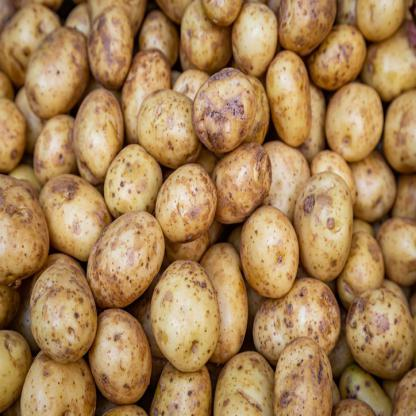potato: (252, 282, 344, 367), (152, 260, 221, 369), (88, 216, 160, 311), (32, 264, 97, 364), (346, 286, 415, 379), (37, 175, 109, 261), (295, 174, 353, 280), (238, 200, 298, 301), (0, 170, 50, 280), (90, 308, 147, 404), (22, 31, 87, 114), (138, 90, 202, 172), (193, 74, 255, 157), (272, 338, 334, 415), (266, 50, 312, 150), (21, 354, 96, 415), (329, 84, 385, 164), (152, 165, 213, 238), (310, 22, 368, 96), (75, 93, 122, 183), (228, 4, 278, 80), (104, 147, 160, 213), (279, 0, 337, 52)
